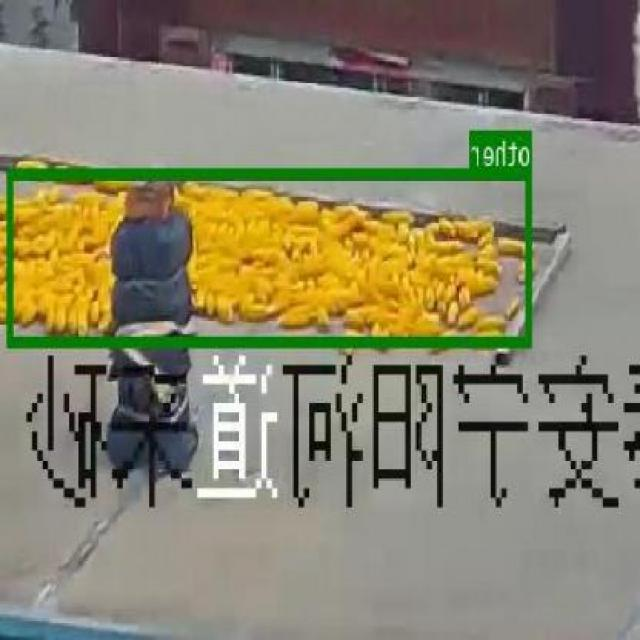other: (9, 166, 534, 346)
